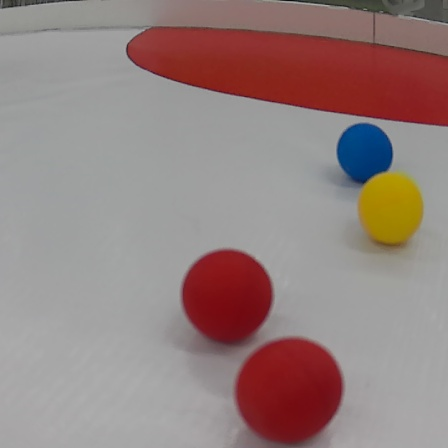blue: (335, 121, 392, 177)
red: (232, 334, 344, 444), (178, 248, 277, 345)
red_base: (123, 15, 448, 127)
yellow: (356, 170, 425, 246)
